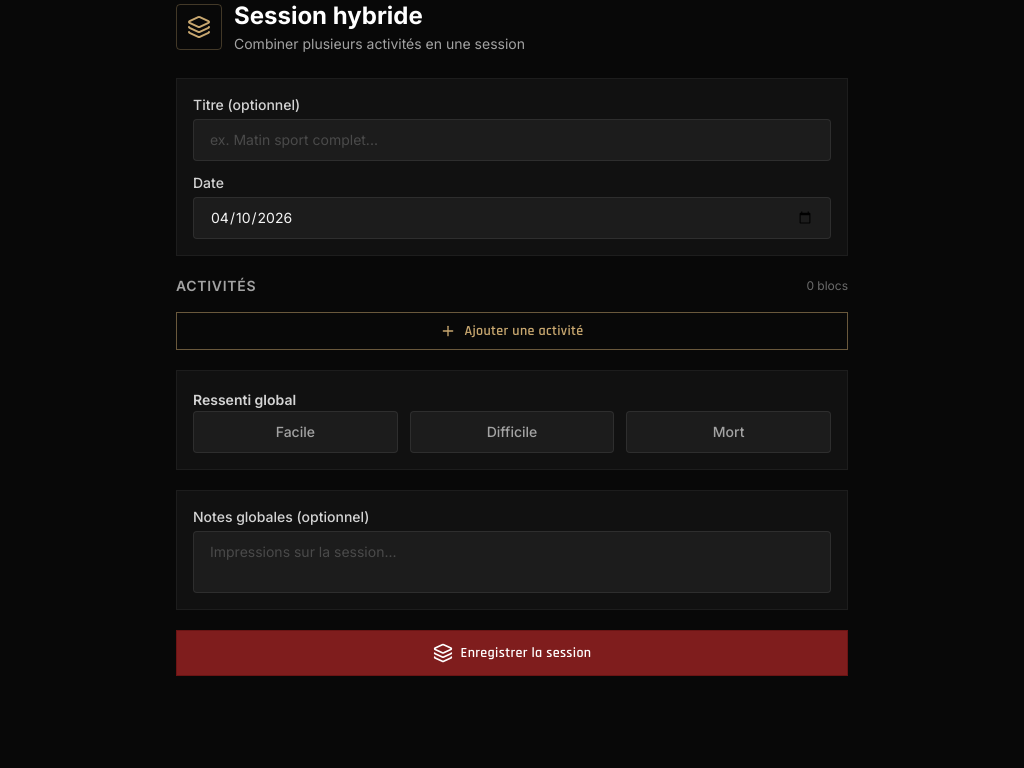
HybridSessionPage › Ajout de blocs via la modal › ajoute un bloc Running au clic sur "Course"
This screenshot has width=1024, height=768.
Click the button "Ajouter une activité": (512, 331) [176,312,848,350]
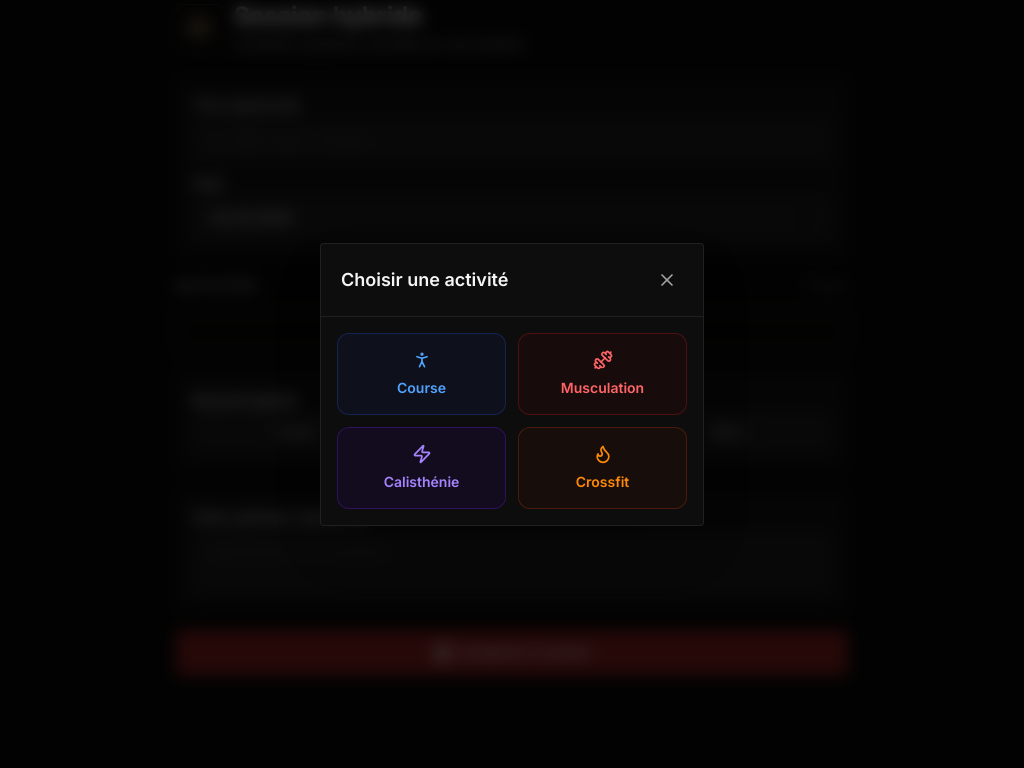
Expected: the text "Course" is shown, [397,378,446,398]
Click the button "Course": (422, 374) [337,332,506,414]
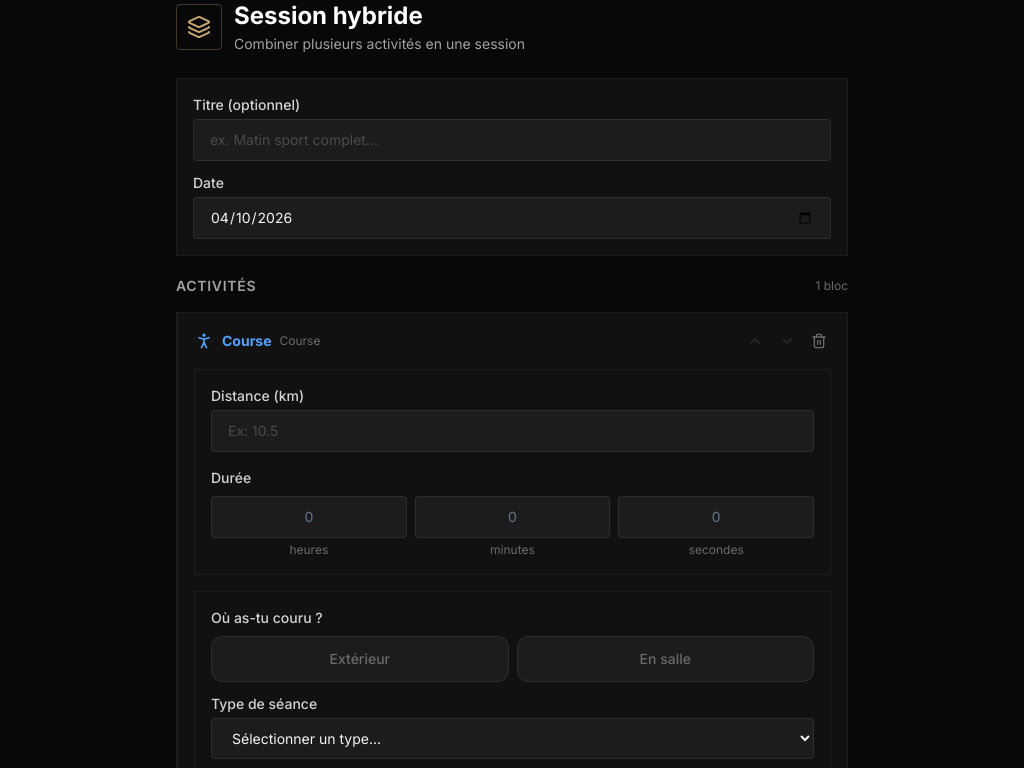
Expected: the text "1 bloc" is shown, [815,278,848,294]
